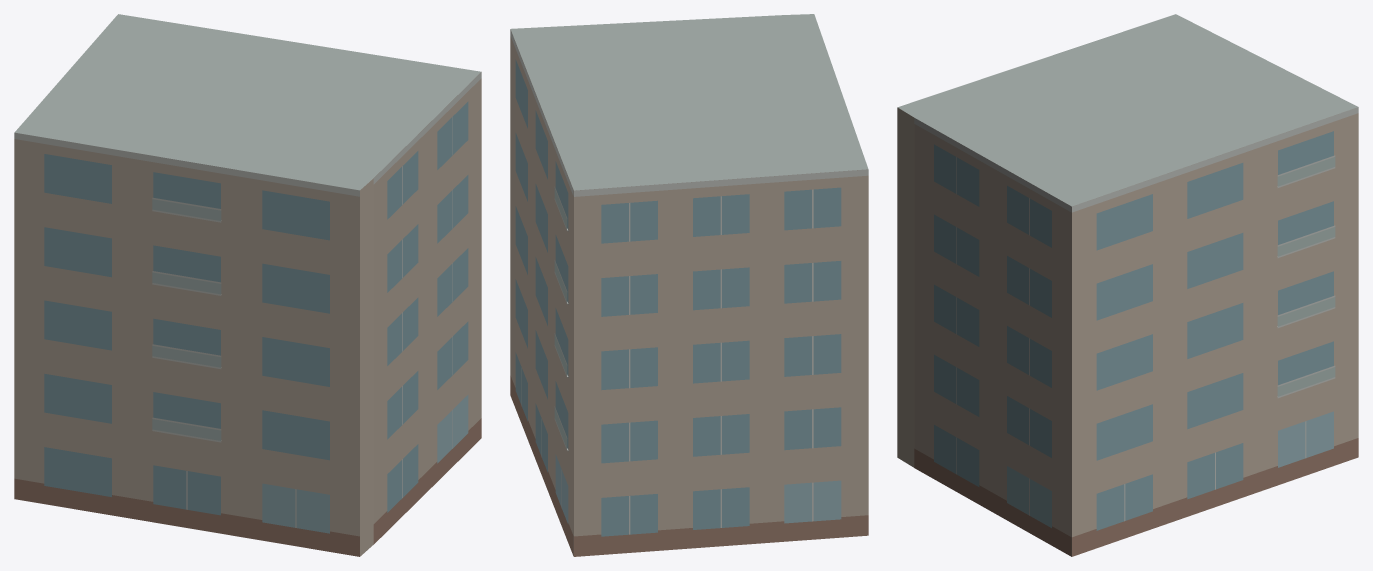
The model's file is survey-upis-32932985.glb.
The picture shows the model from 3 angles, left to right: view 1: azimuth 30°, elevation 25°; view 2: azimuth 150°, elevation 25°; view 3: azimuth 270°, elevation 25°; orthographic projection. The views are drawn at different scales.
Visible parts, largest first — view 1: survey-upis-32932985.tmp; view 2: survey-upis-32932985.tmp; view 3: survey-upis-32932985.tmp.
Boxes of the visible parts, bbox=[...] form: survey-upis-32932985.tmp: bbox=[14, 14, 481, 556]; survey-upis-32932985.tmp: bbox=[510, 14, 868, 556]; survey-upis-32932985.tmp: bbox=[897, 14, 1358, 556].
Size of the model in its own units: 16.51 by 14 by 16.71.
